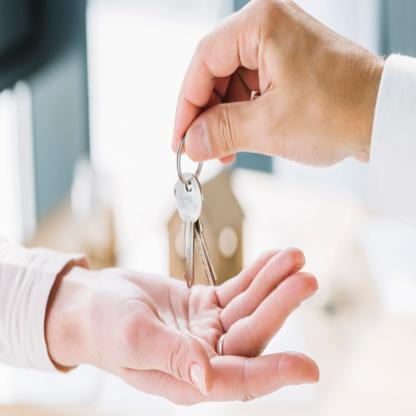keys: (170, 164, 219, 294)
